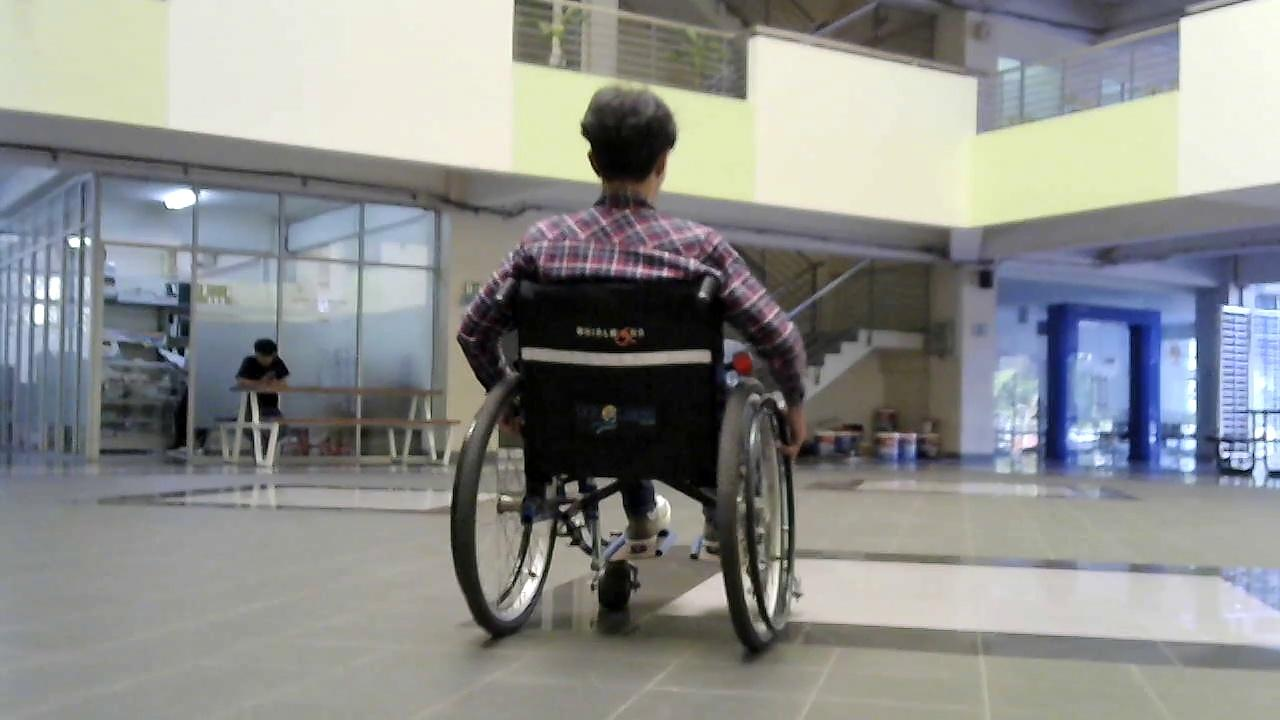person: (453, 85, 819, 484), (234, 338, 291, 467)
wheelchair: (434, 257, 818, 671)
